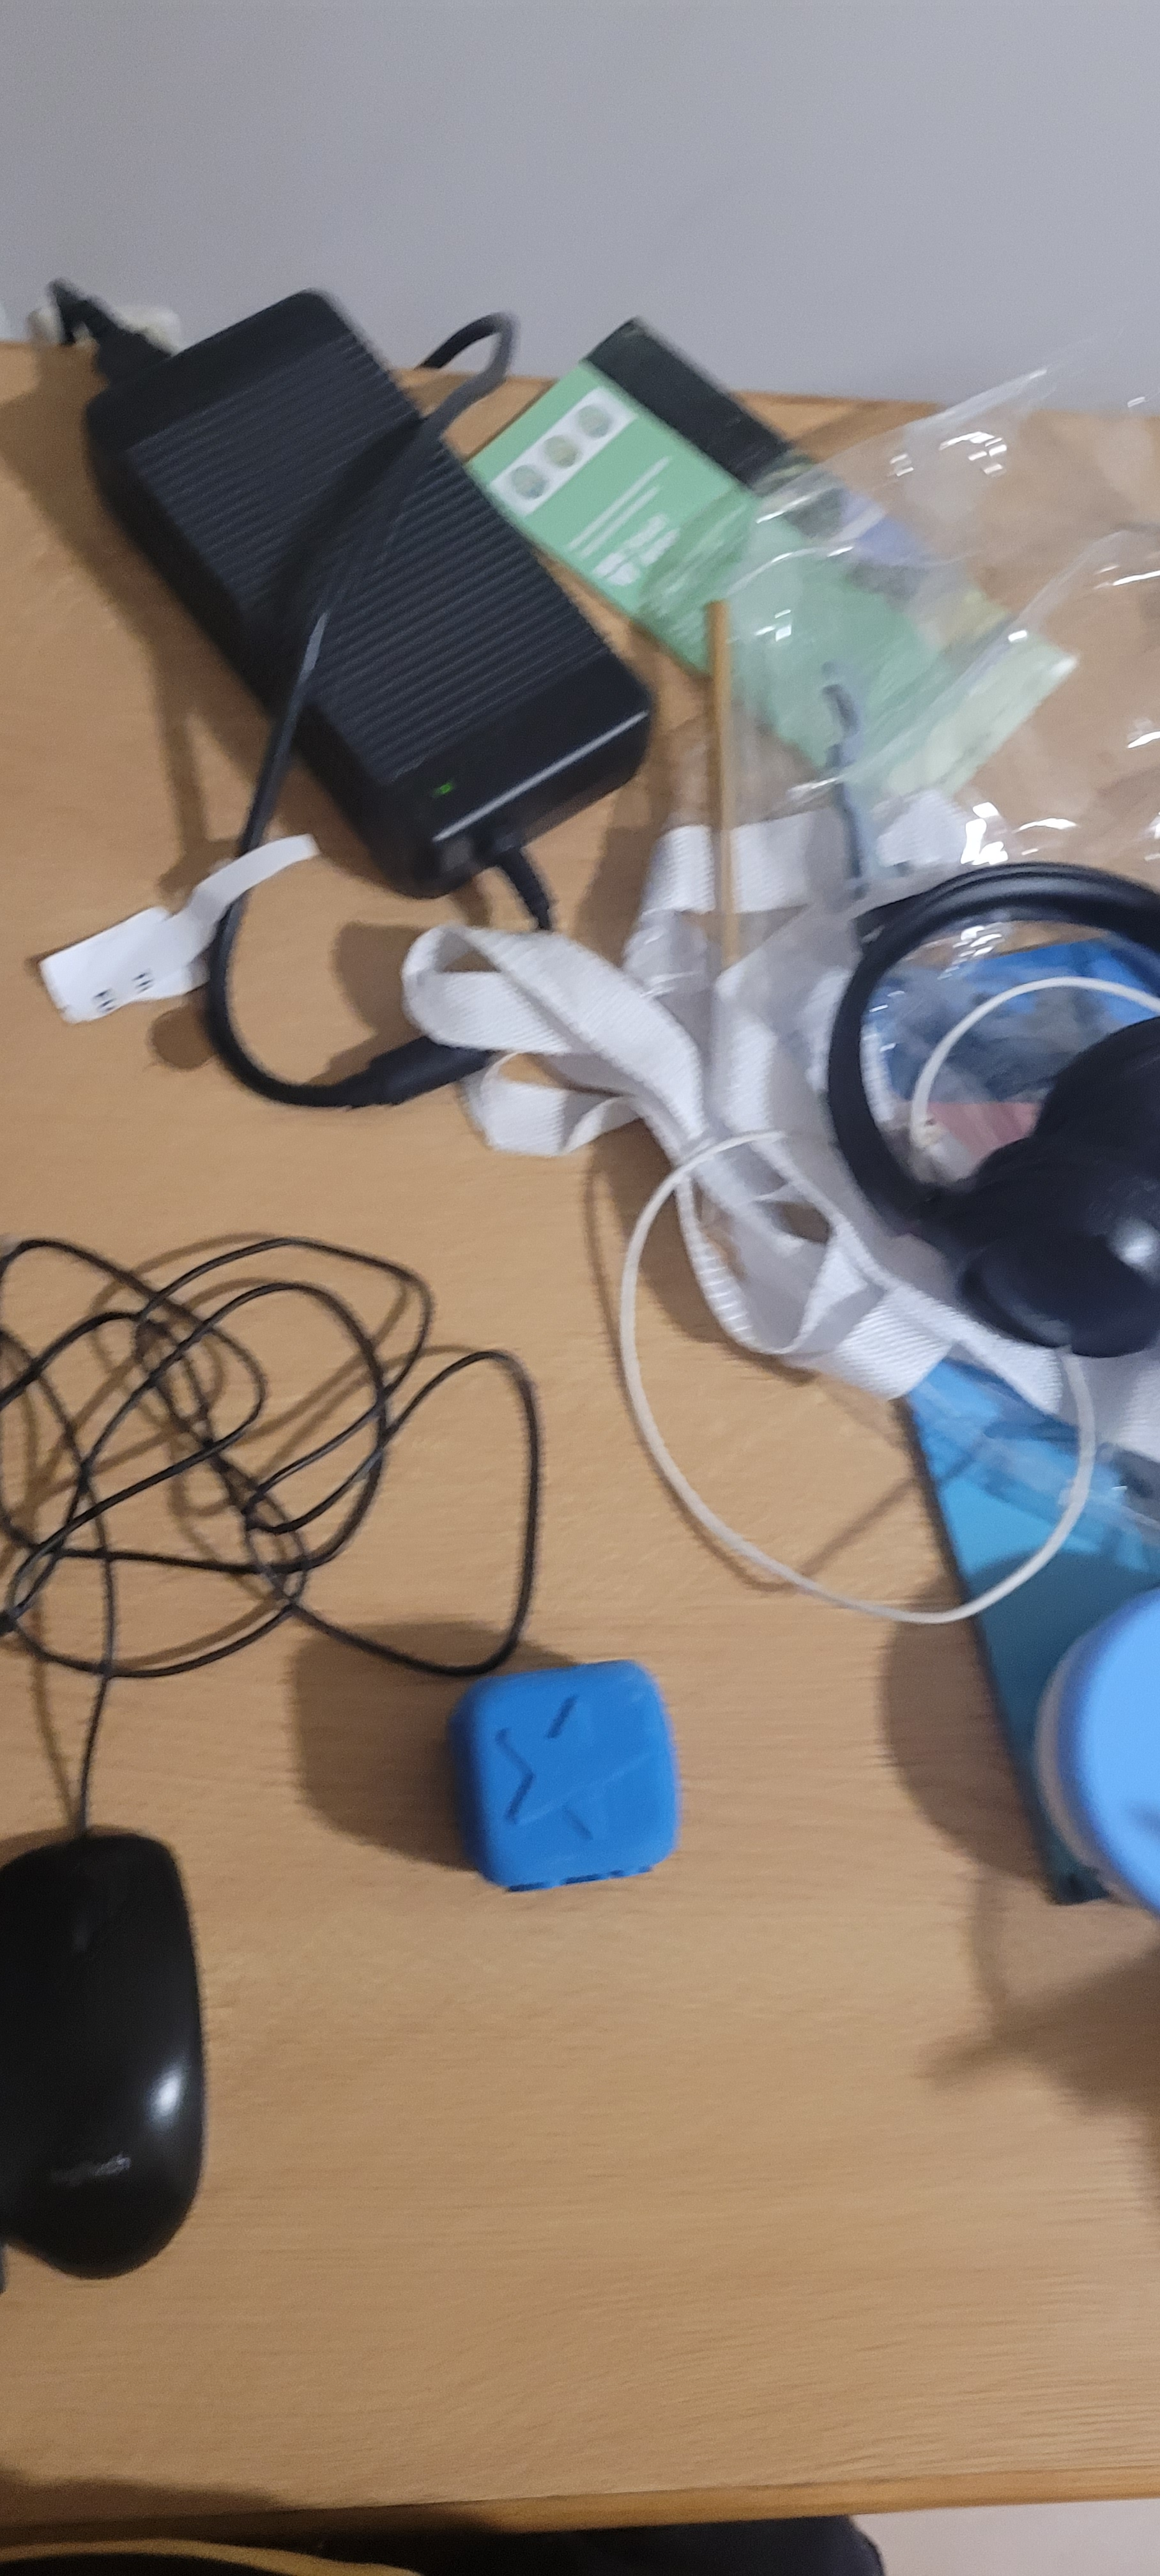Star: (496, 1692, 652, 1871)
